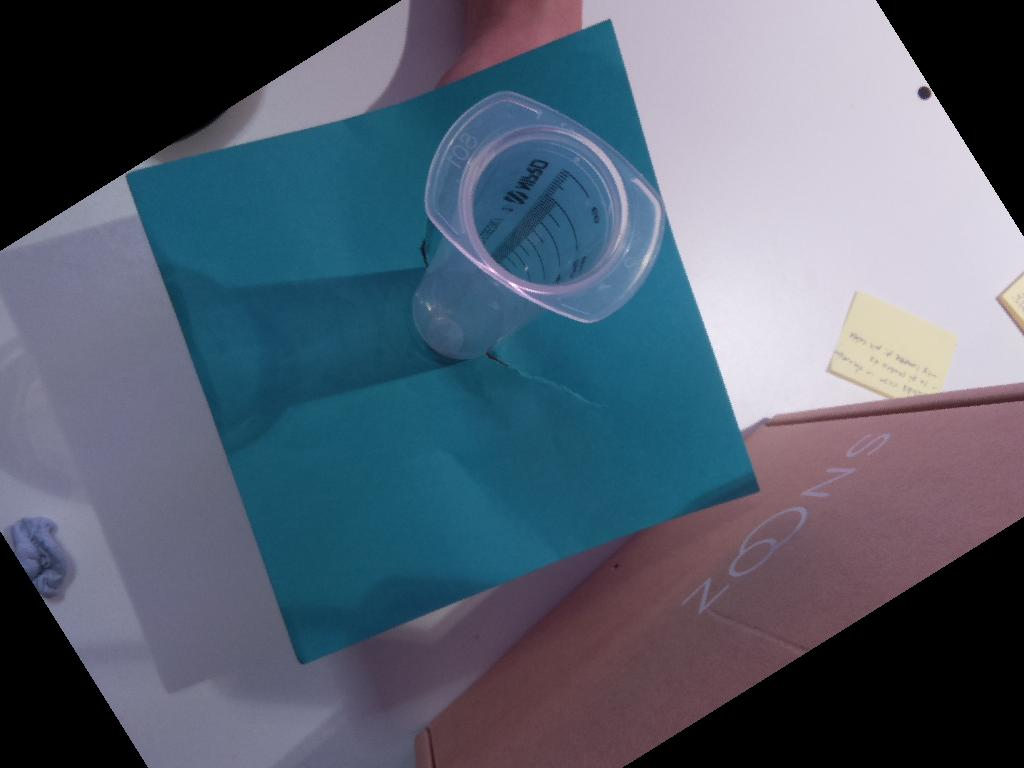clean: (422, 89, 669, 325)
